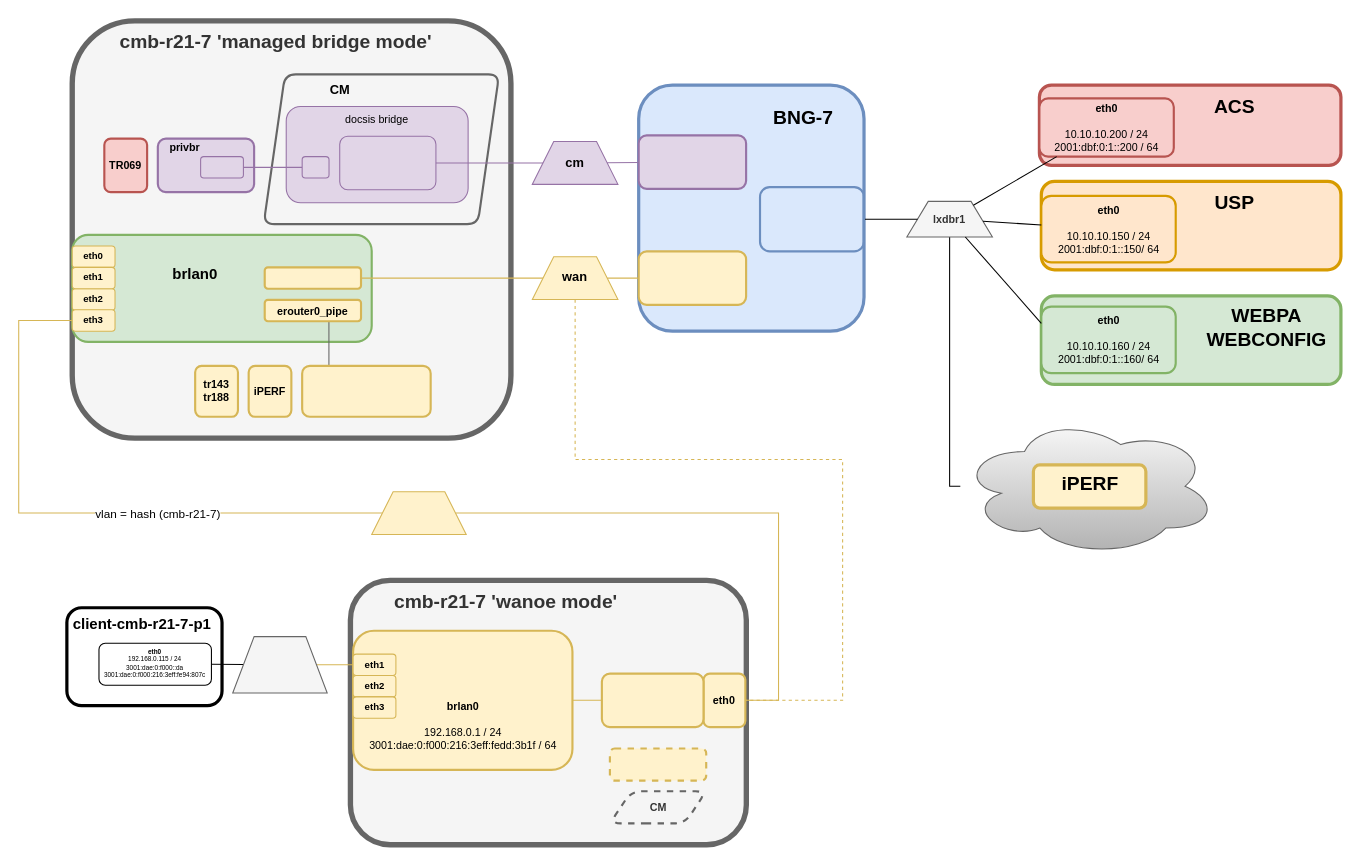
The diagram is 1361 pixels wide and 866 high, and some of its shapes have lost their labels. The centre of each missing label's shape, as x and y in pixels:
"CM 10.107..201.100 2001:daf:7:1:131" goes at (x=387, y=162).
"erouter0" goes at (x=657, y=764).
"erouter0 10.107.201.105 / 24" goes at (x=366, y=390).
"erouter1 10.107.200.110 2001:dae:7:1::254" goes at (x=652, y=700).
"eth0 10.10.10.107 / 24 2001:dbf:0:1::107" goes at (x=811, y=219).
"eth1 10.107.200.1 / 24 2001:dae:7:1::129" goes at (x=692, y=277).
"eth2 10.107.201.1 / 24 2001:daf:7:1::129" goes at (x=692, y=161).
"lan-p1" goes at (x=279, y=664).
"priv0" goes at (x=221, y=167).
"wan_upper" goes at (x=312, y=277).
"wanoe" goes at (x=418, y=512).
